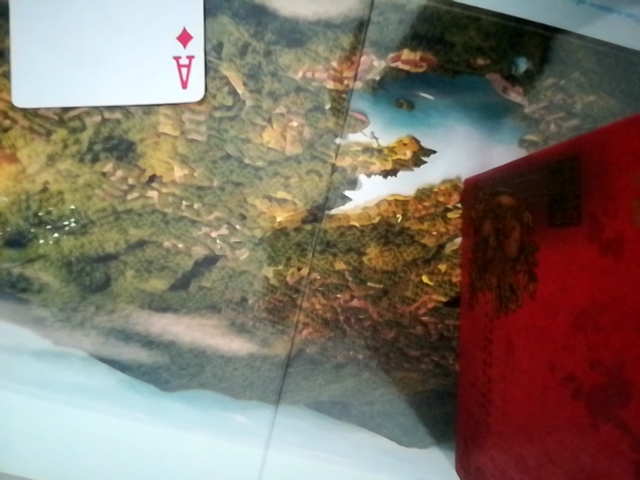fk a: (7, 3, 218, 111)
